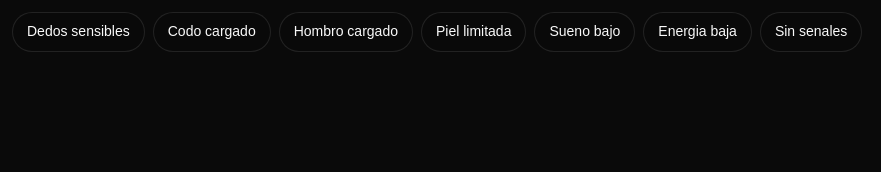
Scenario: MultiPills › clears other recovery and injury pills around the exclusive options
Later steps or results of the test are not shown.
Click the button "Codo cargado" at (212, 32), box [153,12,271,52]
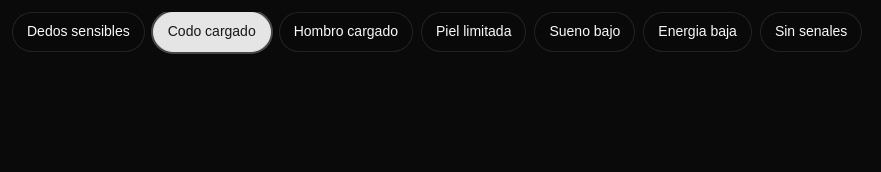
Click the button "Sueno bajo" at (585, 32), box [534,12,635,52]
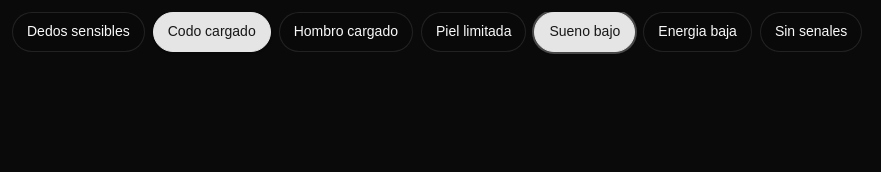
Click the button "Sin senales" at (811, 32), box [760,12,862,52]
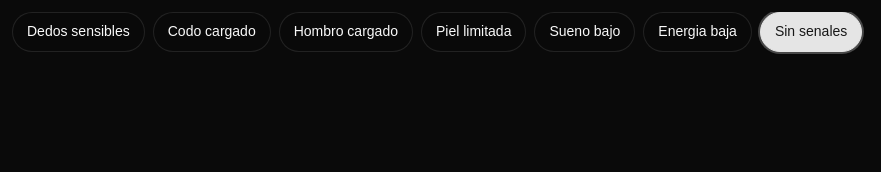
Check: the button "Sin senales" is pressed, box [760,12,862,52]
Check: the button "Sueno bajo" is not pressed
Check: the button "Codo cargado" is not pressed, box [153,12,271,52]
Click the button "Sueno bajo" at (585, 32), box [534,12,635,52]
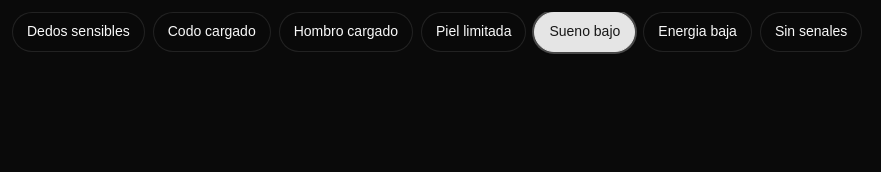
Check: the button "Sin senales" is not pressed, box [760,12,862,52]
